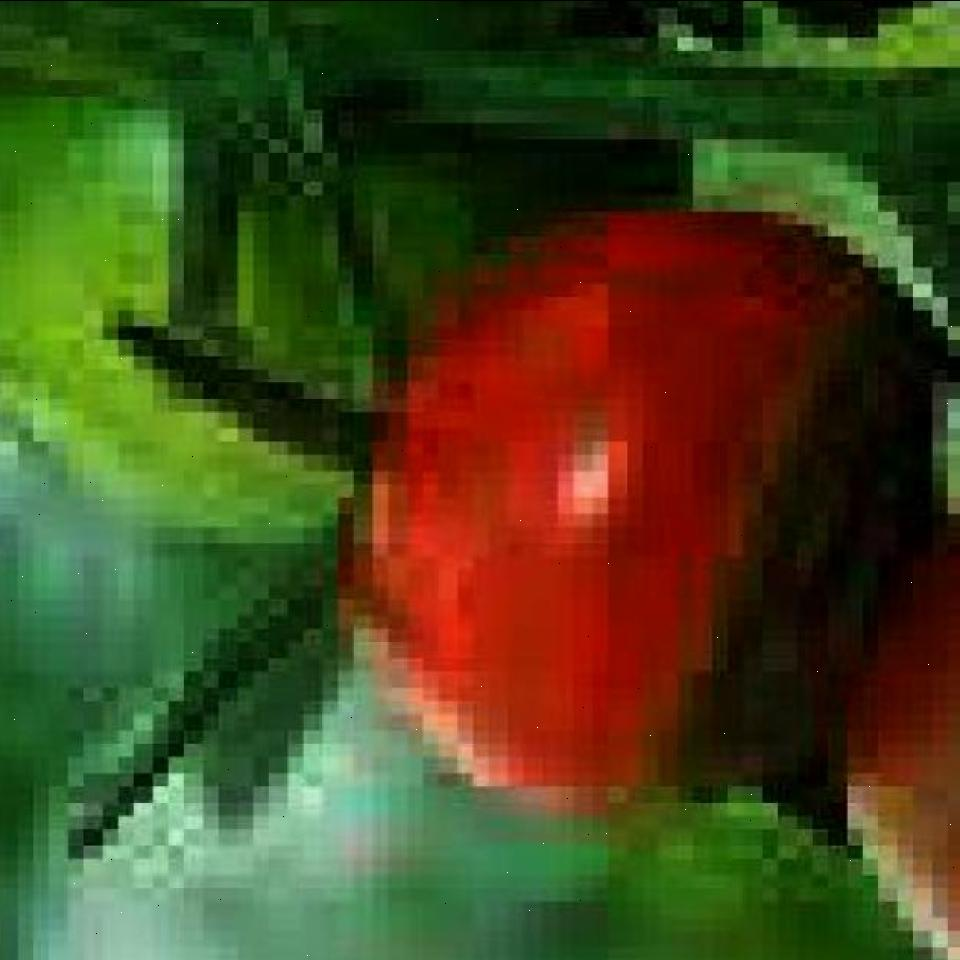Blossom_end_rot: (638, 291, 957, 819)
